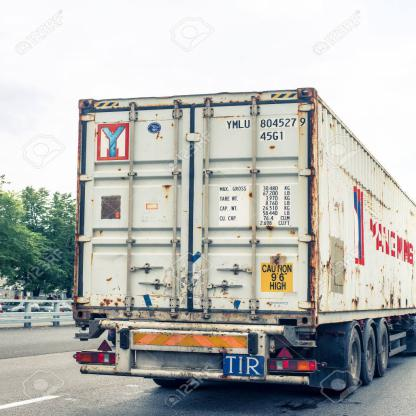normal-truck: (62, 76, 416, 416)
